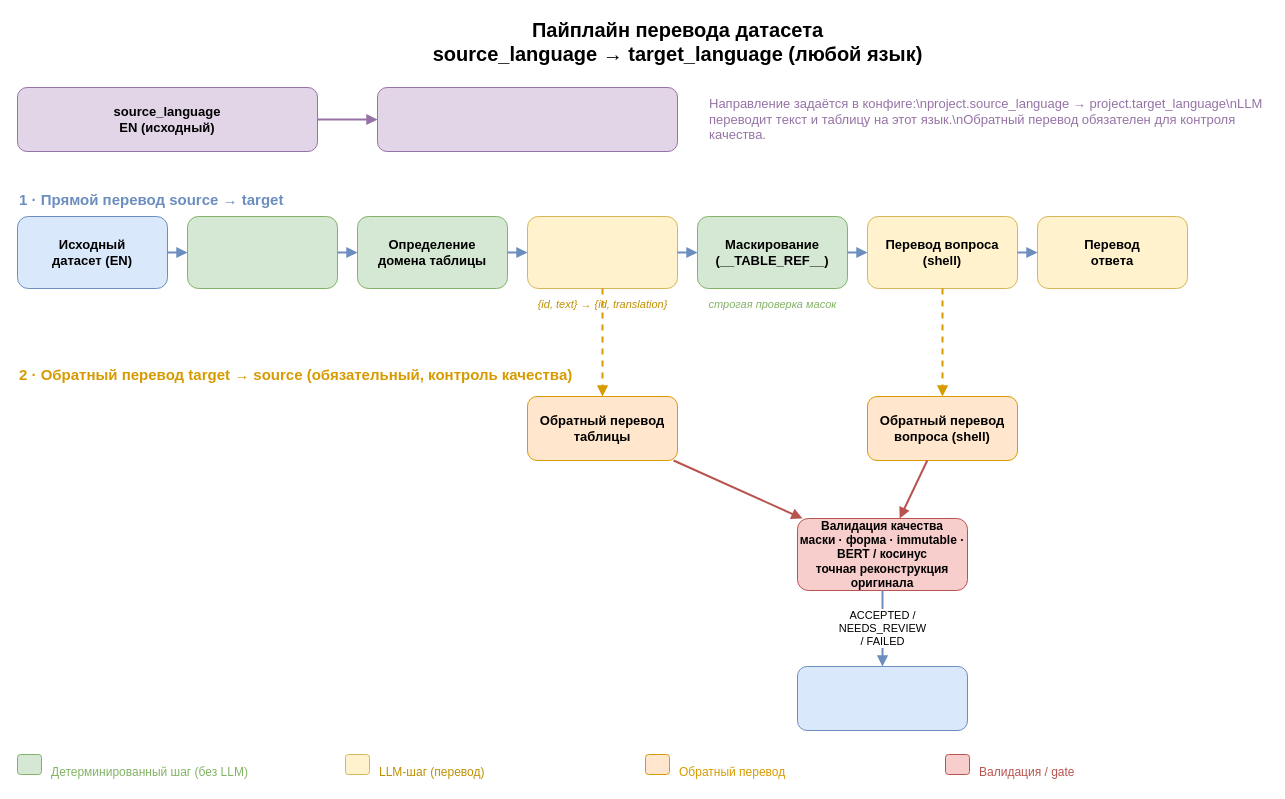
This 1285x799 diagram has some shape labels left out. Each missing label, with the box of its shape:
target_language RU · DE · FR · ZH … (любой): (376, 86, 678, 152)
Переведённый датасет на целевом языке (RU / DE / FR …): (796, 666, 968, 730)
Перевод таблицы (словарь id→translation): (526, 216, 678, 288)
Поиск упоминаний: (186, 216, 338, 288)
